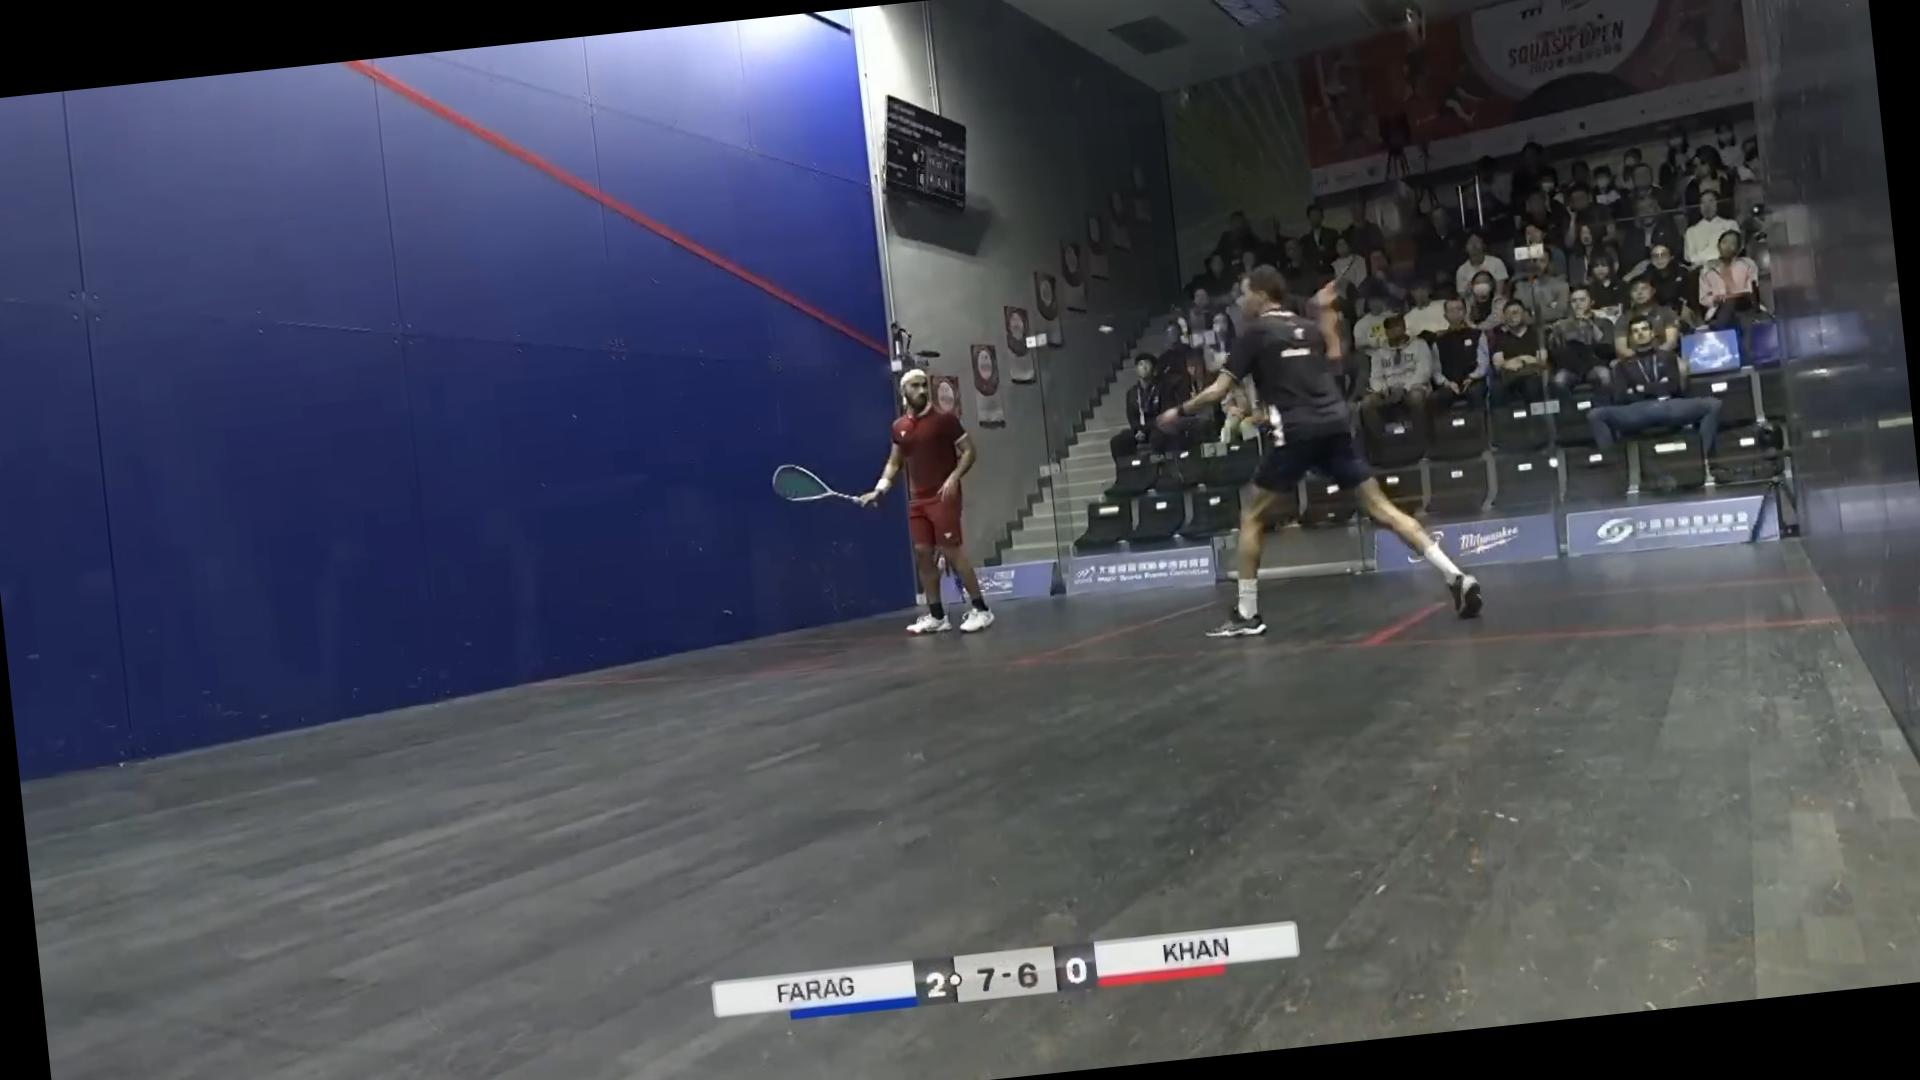Racket: (771, 451, 874, 522)
